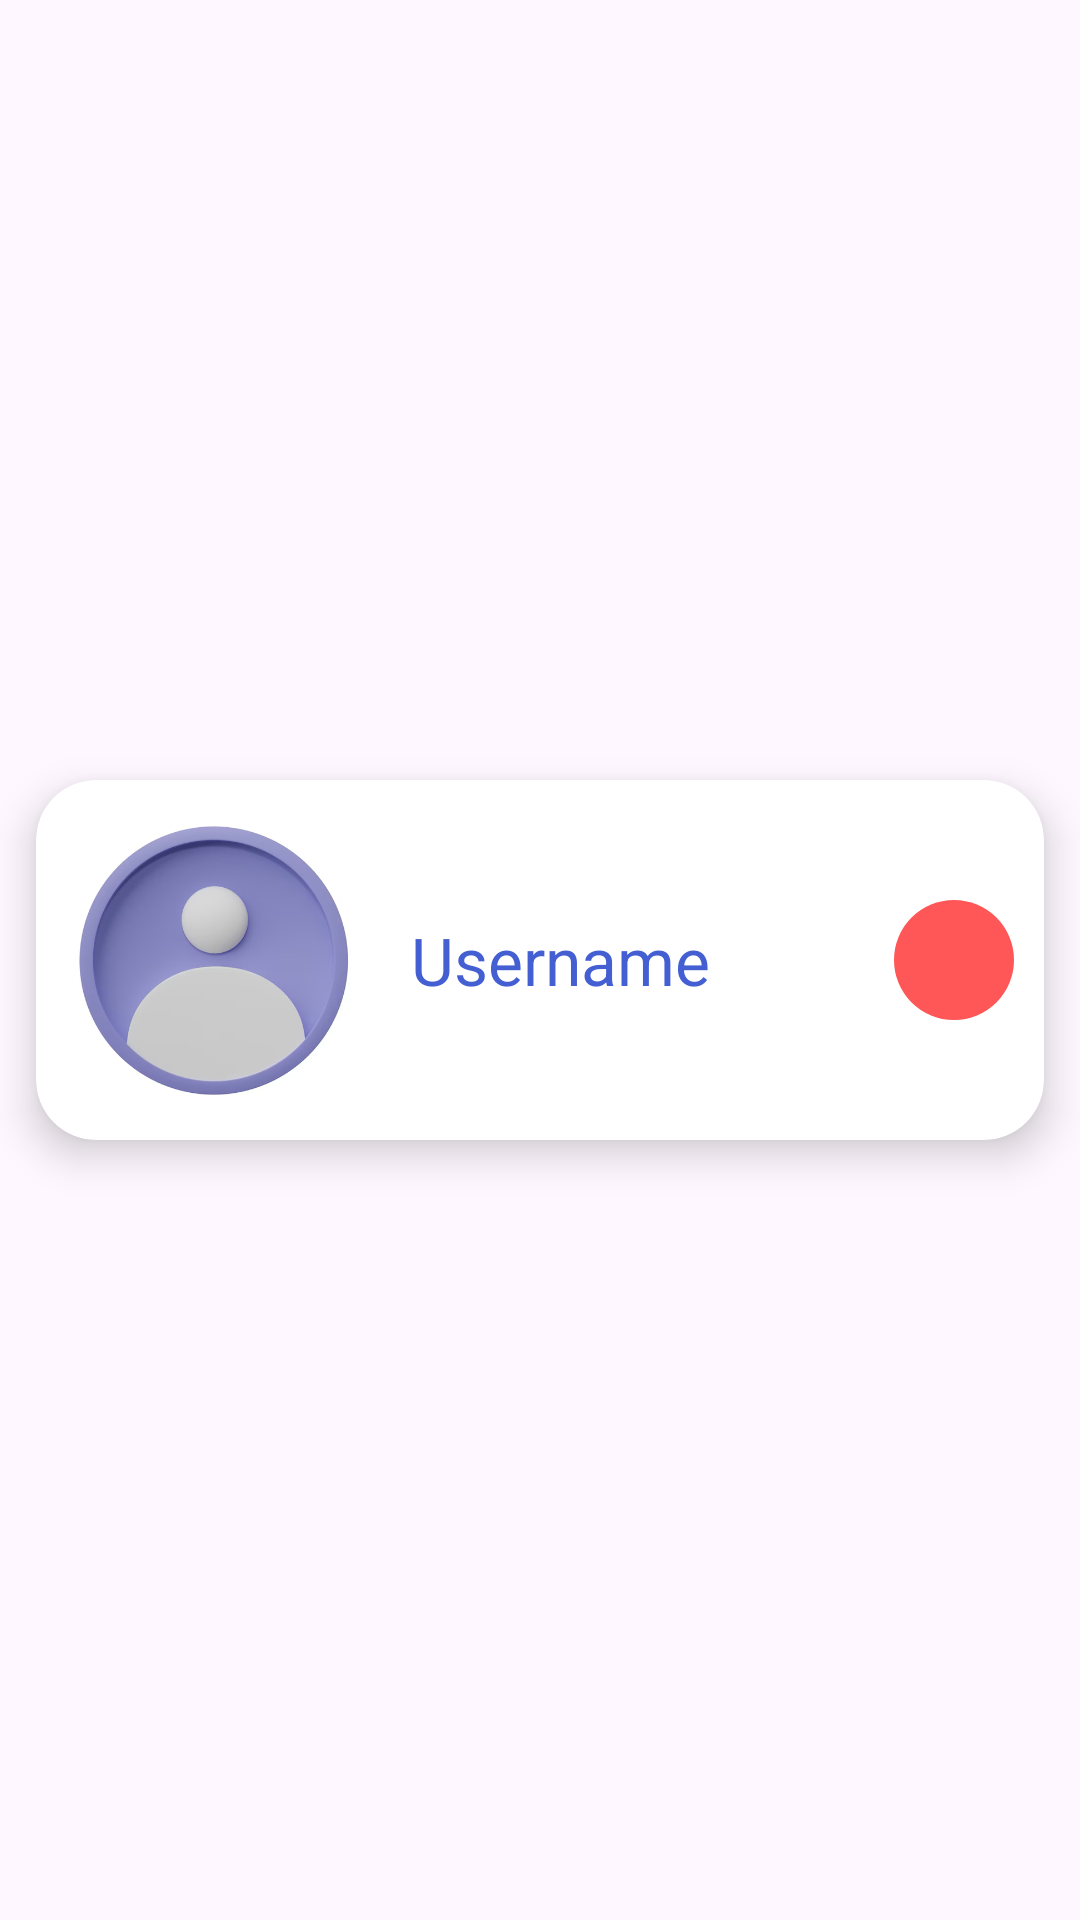

Where icons sit on this 1080px×1920px app screen, as (x1, y1, x2, y2):
perfil: (79, 826, 348, 1095)
